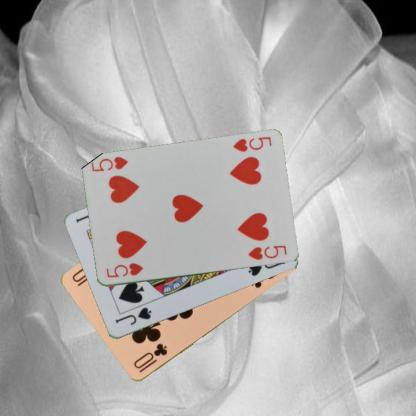10c: (130, 341, 168, 374)
5h: (230, 134, 273, 154), (103, 260, 144, 279)
Js: (112, 304, 153, 326)
